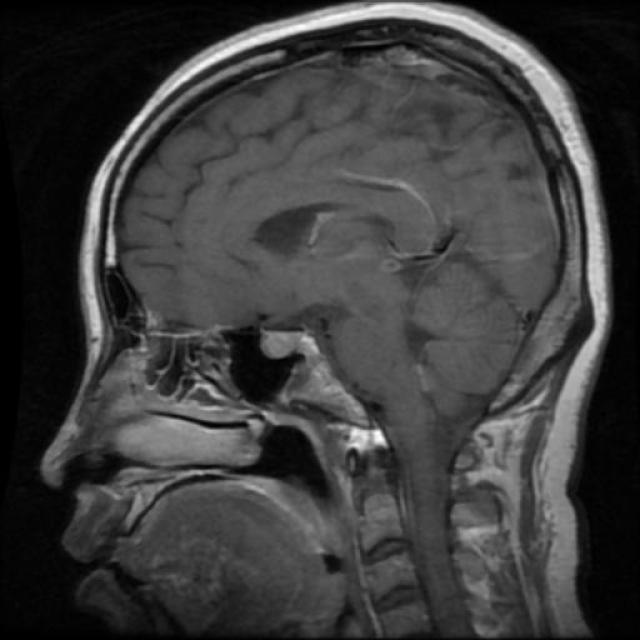pituitary: (246, 308, 385, 431)
